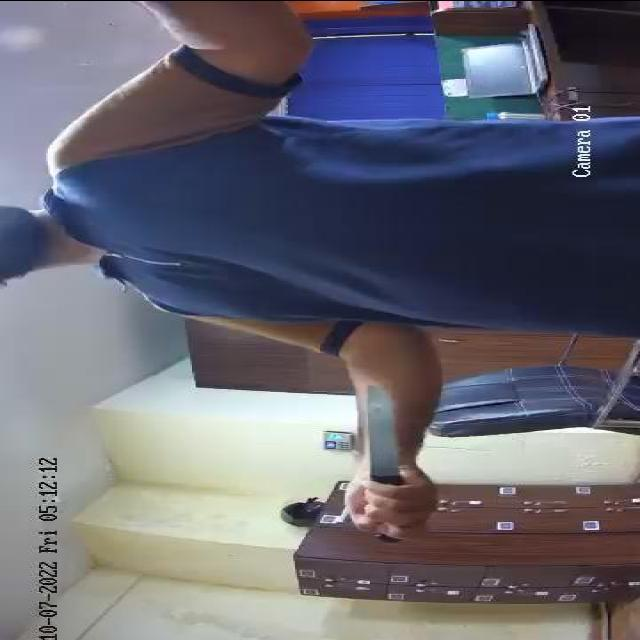Sharp-Object: (363, 379, 423, 546)
